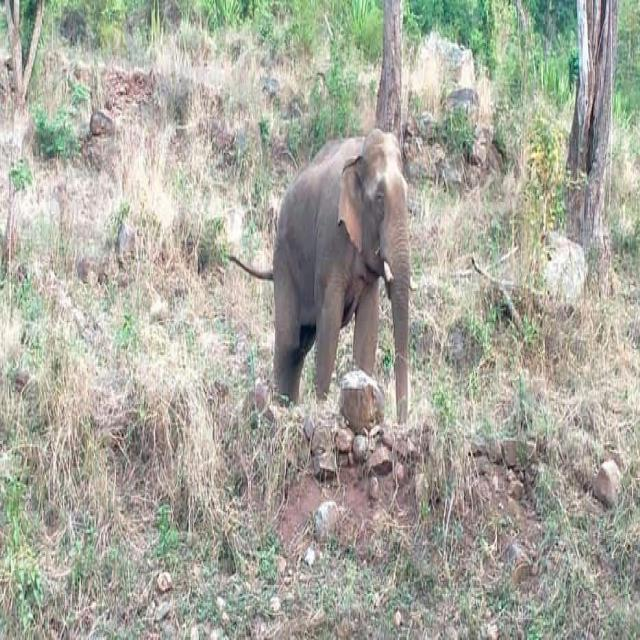Elephant: (269, 128, 410, 422)
